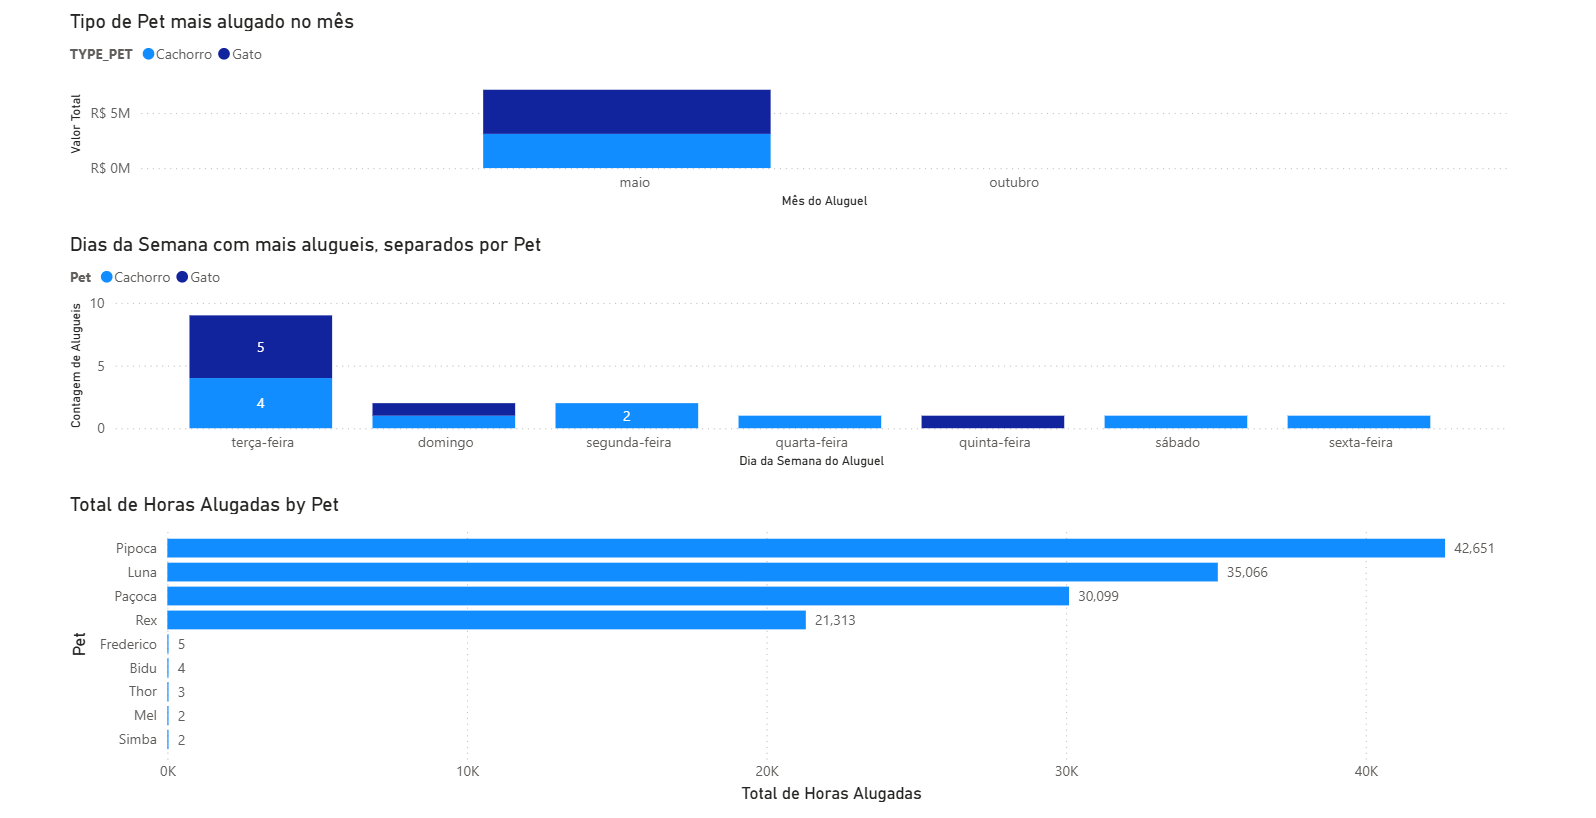

What the dashboard file says about the page in this screenshot:
{"tool":"powerbi","page":{"name":"Página 1","canvas":[1280,720],"ordinal":0},"visuals":[{"type":"columnChart","title":"Tipo de Pet mais alugado no mês","fields":{"Y":["Sum(DB_T2_DIONISIO_JUNIOR TB_RENTS_FINAL.TOTAL_VALUE)"],"Category":["DB_T2_DIONISIO_JUNIOR TB_RENTS_FINAL.Mês do Aluguel"],"Series":["DB_T2_DIONISIO_JUNIOR TB_PETS_FINAL.TYPE_PET"]},"box":[16,16,1248,176],"z":0},{"type":"columnChart","title":"Dias da Semana com mais alugueis, separados por Pet","fields":{"Y":["CountNonNull(DB_T2_DIONISIO_JUNIOR TB_RENTS_FINAL.ID_RENT)"],"Category":["DB_T2_DIONISIO_JUNIOR TB_RENTS_FINAL.Dia da Semana do Aluguel"],"Series":["DB_T2_DIONISIO_JUNIOR TB_PETS_FINAL.TYPE_PET"]},"box":[16,208,1248,208],"z":1},{"type":"barChart","fields":{"Y":["Sum(DB_T2_DIONISIO_JUNIOR TB_RENTS_FINAL.HOURS)"],"Category":["DB_T2_DIONISIO_JUNIOR TB_PETS_FINAL.NAME_PET"]},"box":[16,432,1248,272],"z":2}]}

Visuals, with their boxes on the page's 1280x720 design canvas (x1, y1, x2, y2). These are canvas units, not pixel positions in the 1596x818 screenshot, which may show the page scaled, cropped or inside an application window:
"Tipo de Pet mais alugado no mês" columnChart: (left=16, top=16, right=1264, bottom=192)
"Dias da Semana com mais alugueis, separados por Pet" columnChart: (left=16, top=208, right=1264, bottom=416)
barChart - Sum(DB_T2_DIONISIO_JUNIOR TB_RENTS_FINAL.HOURS) x DB_T2_DIONISIO_JUNIOR TB_PETS_FINAL.NAME_PET: (left=16, top=432, right=1264, bottom=704)
